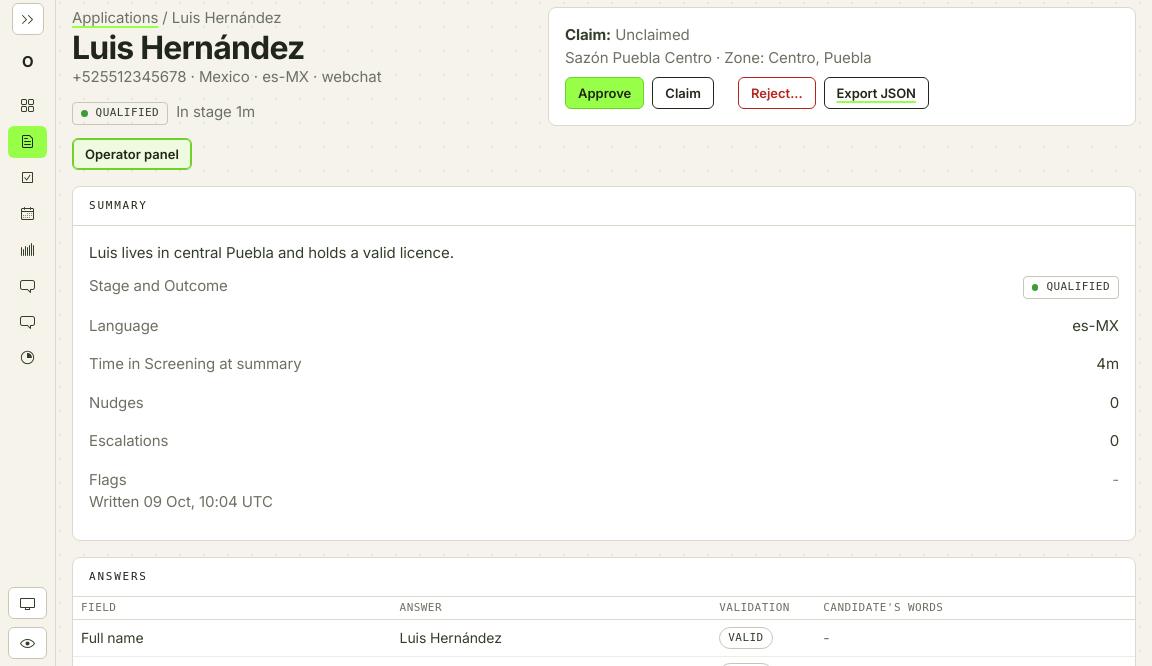
Test case: Message labels in the Transcript › shows an Operator under Preview as Recruiter the same strip and no scores
This screenshot has width=1152, height=666.
Click the button named "Preview as Recruiter": x=28, y=643 [8,627,47,659]
(page scrolled)
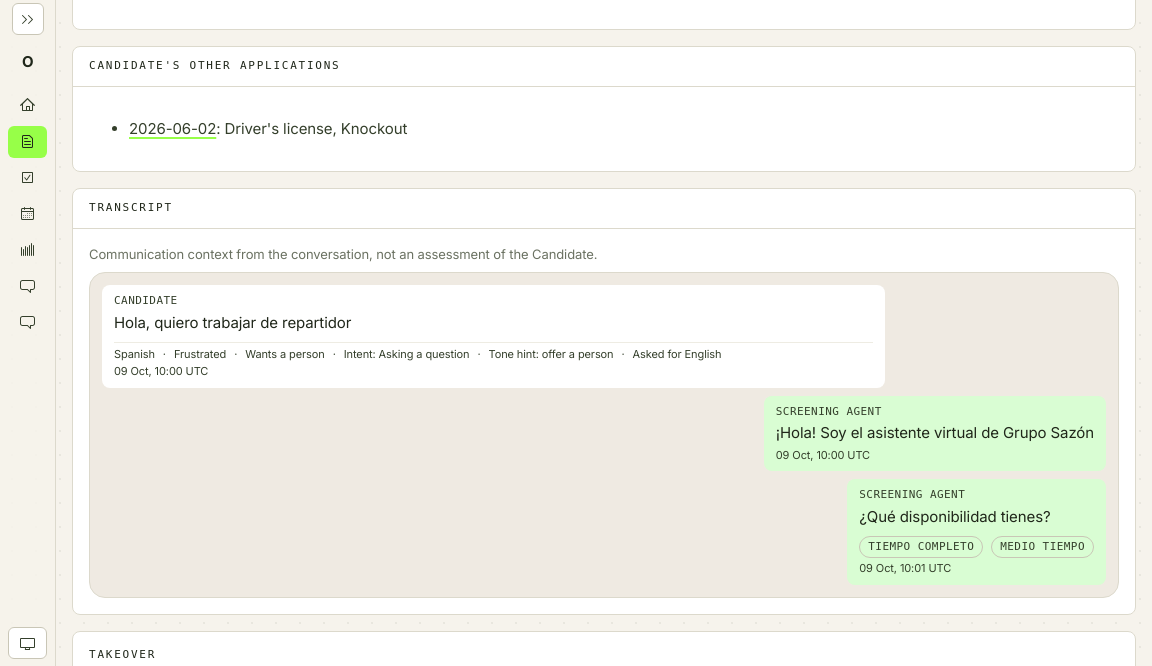
Expected: the element with test id "message-labels" shows "Wants a person", [245,347,325,361]
Now the button "Operator panel" is gone
